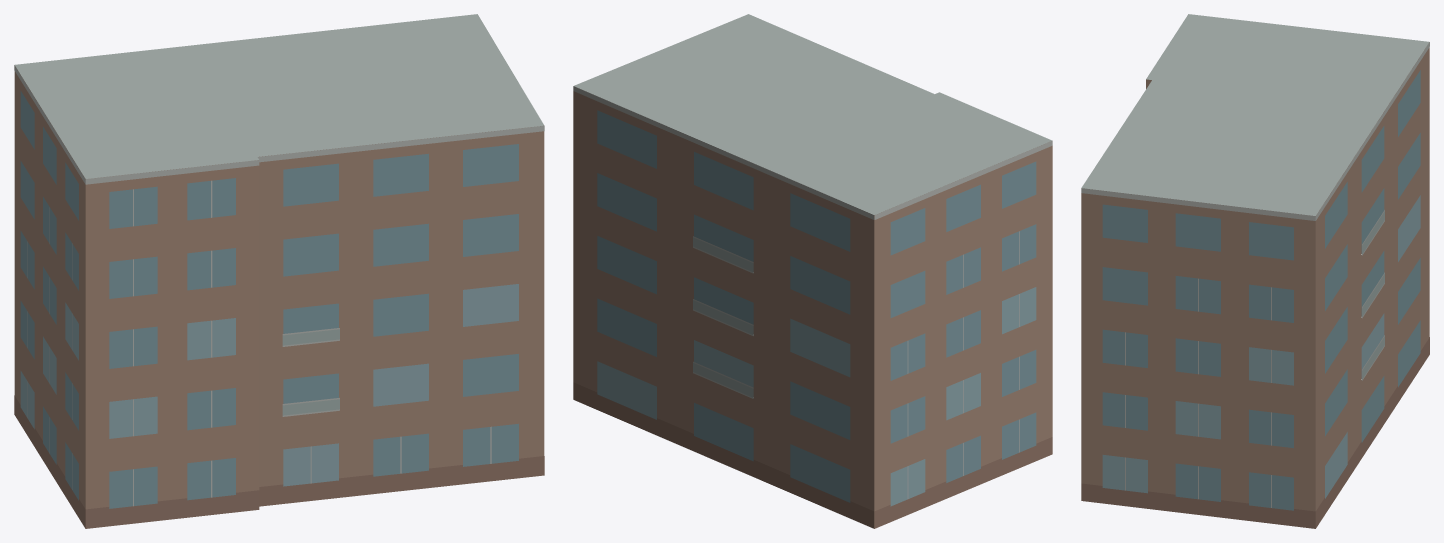
Rendered from survey-upis-32546171.glb.
3 renders of one model, left to right at view 1: azimuth 30°, elevation 25°; view 2: azimuth 150°, elevation 25°; view 3: azimuth 270°, elevation 25°, orthographic. The views are drawn at different scales.
Parts seen in each view (by area): view 1: survey-upis-32546171.tmp; view 2: survey-upis-32546171.tmp; view 3: survey-upis-32546171.tmp.
Part boxes in pixels (bbox=[...]): survey-upis-32546171.tmp: bbox=[14, 14, 544, 528]; survey-upis-32546171.tmp: bbox=[573, 14, 1052, 528]; survey-upis-32546171.tmp: bbox=[1081, 14, 1429, 528].
Bounding box in the file's own units: 21.14 × 15.25 × 15.41.
